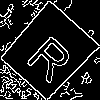R: (23, 26, 83, 85)
